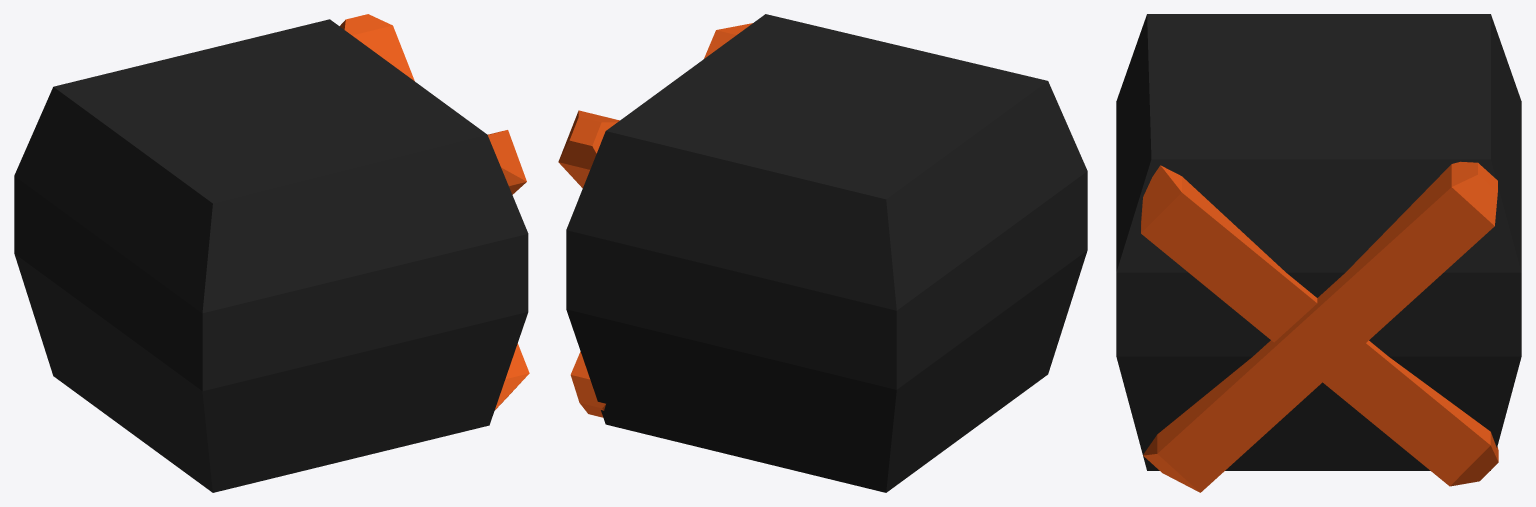
The model's file is BoxPlatform.fbx.
The picture shows the model from 3 angles, left to right: view 1: azimuth 30°, elevation 25°; view 2: azimuth 150°, elevation 25°; view 3: azimuth 270°, elevation 25°; orthographic projection. The views are drawn at different scales.
Parts seen in each view (by area): view 1: Cube, Cube.001, Cube.002; view 2: Cube, Cube.001, Cube.002; view 3: Cube, Cube.001, Cube.002.
Boxes of the visible parts, x1,y1,x2,y2 form: Cube: (14, 19, 528, 492); Cube.001: (339, 14, 529, 410); Cube.002: (488, 130, 526, 194); Cube: (566, 14, 1087, 492); Cube.001: (558, 110, 619, 188); Cube.002: (570, 23, 752, 417); Cube: (1116, 14, 1521, 470); Cube.001: (1143, 161, 1497, 492); Cube.002: (1141, 165, 1498, 486).
Bounding box in the file's own units: 250 × 201 × 236.
